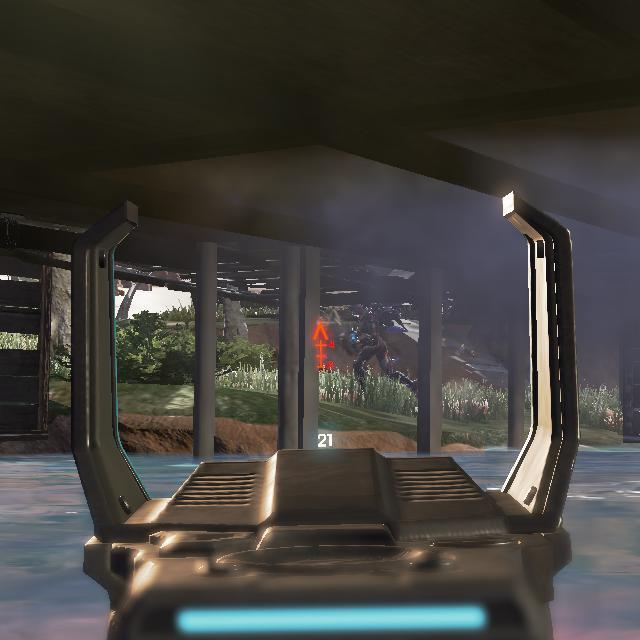avatar: (347, 302, 391, 396)
